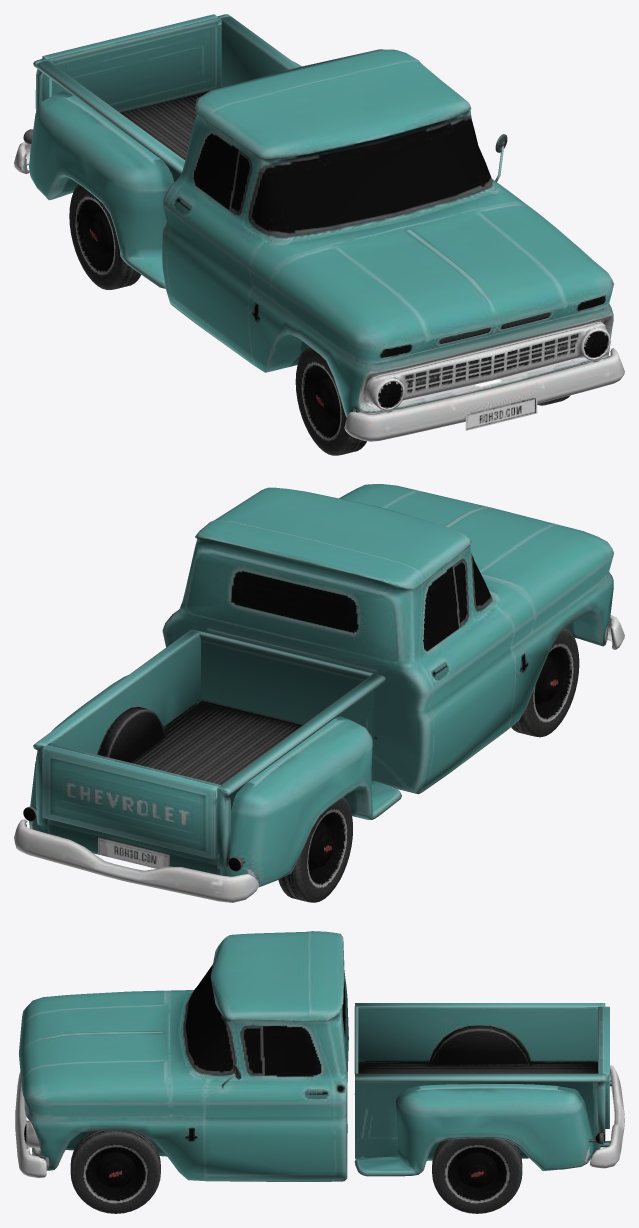
The model's file is car.glb.
3 views of the same model, one above another, from view 1: azimuth 30°, elevation 25°; view 2: azimuth 150°, elevation 25°; view 3: azimuth 270°, elevation 25° (orthographic). The views are drawn at different scales.
Parts seen in each view (by area): view 1: vehicle; view 2: vehicle; view 3: vehicle.
Part boxes in pixels (<box>): vehicle: <box>14,14,624,455</box>; vehicle: <box>14,484,624,902</box>; vehicle: <box>15,931,624,1213</box>.
Size of the model in its own units: 2.11 by 1.8 by 4.9.
1 material, 1 textured.
